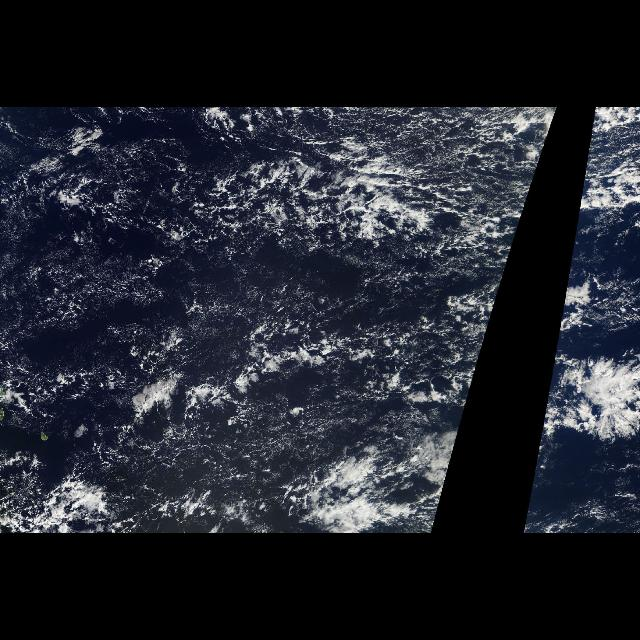Gravel: (3, 109, 557, 531), (563, 109, 639, 303)
Sugar: (2, 118, 420, 466), (178, 262, 488, 332)
